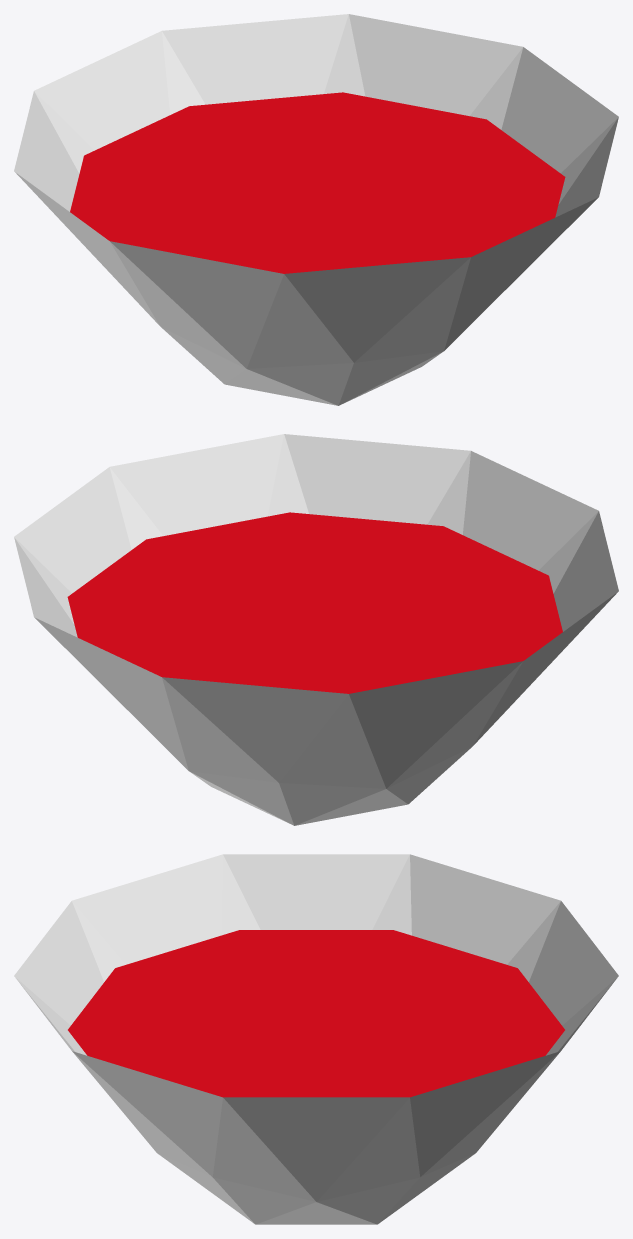
The model's file is bowl.fbx.
The picture shows the model from 3 angles, top to bottom: view 1: azimuth 30°, elevation 25°; view 2: azimuth 150°, elevation 25°; view 3: azimuth 270°, elevation 25°; orthographic projection. The views are drawn at different scales.
Parts seen in each view (by area): view 1: Icosphere, Icosphere.001; view 2: Icosphere, Icosphere.001; view 3: Icosphere, Icosphere.001.
Part boxes in pixels (left/top/right/bottom): Icosphere: left=14, top=14, right=618, bottom=405; Icosphere.001: left=70, top=92, right=565, bottom=273; Icosphere: left=14, top=434, right=618, bottom=825; Icosphere.001: left=67, top=512, right=562, bottom=693; Icosphere: left=14, top=854, right=618, bottom=1224; Icosphere.001: left=68, top=930, right=564, bottom=1097.
Size of the model in its own units: 291 by 134 by 306.
